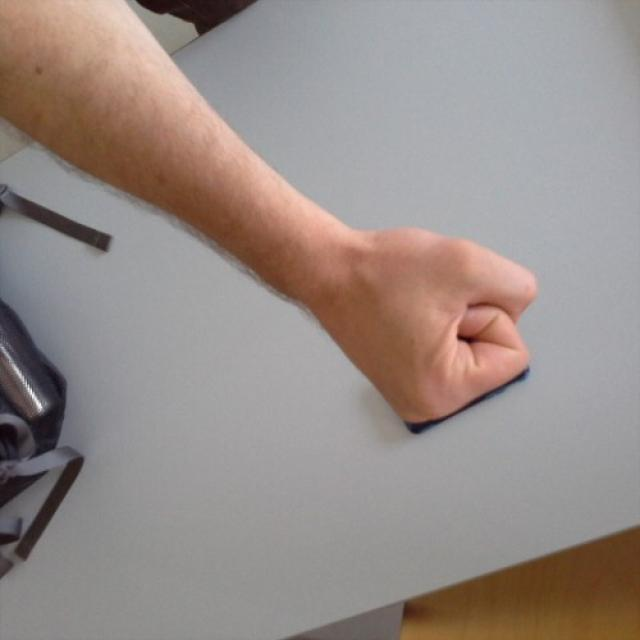fist: (319, 203, 548, 434)
